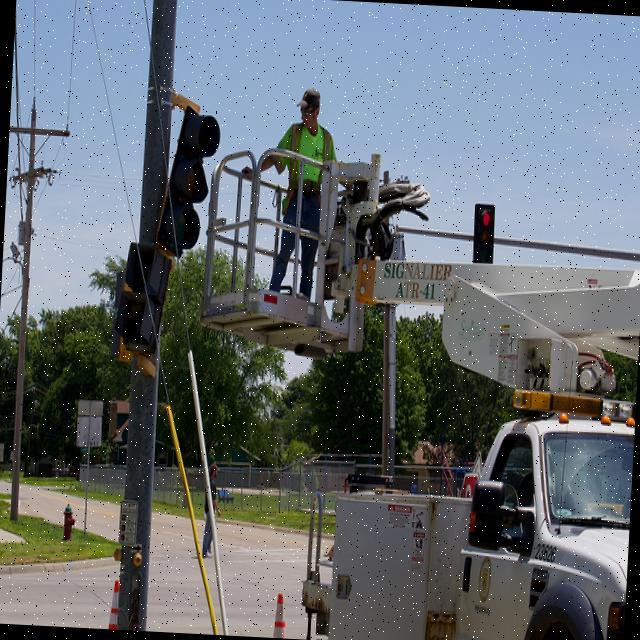fire_hydrant: (62, 502, 75, 539)
